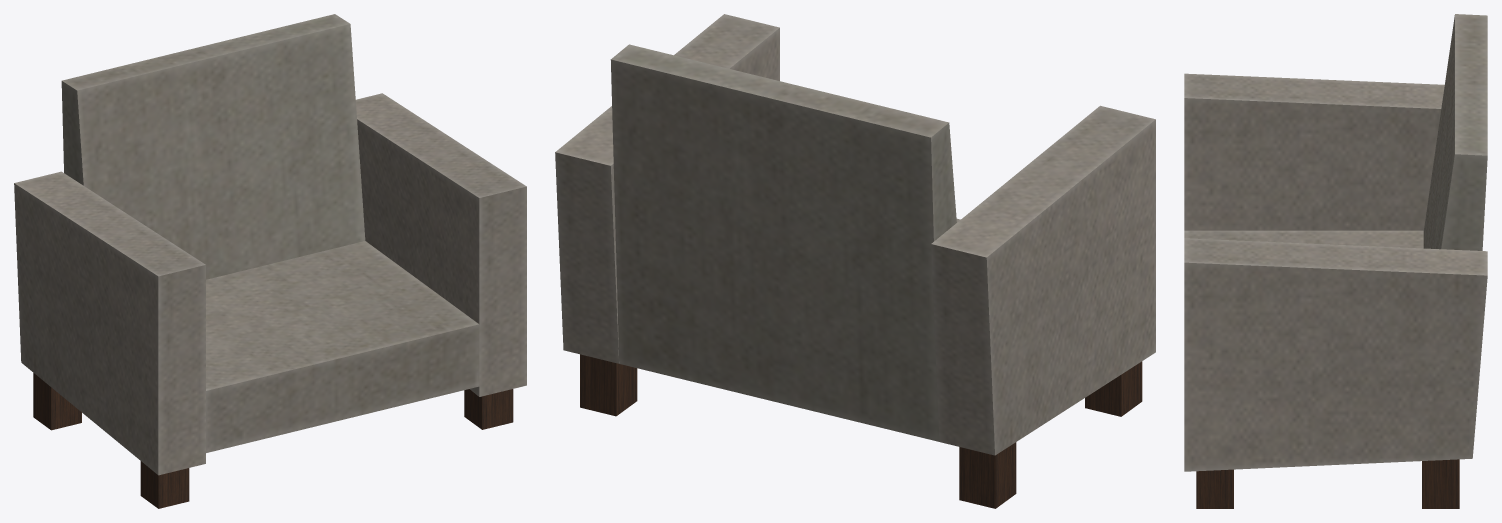
The model's file is Couch_1A.fbx.
3 renders of one model, left to right at view 1: azimuth 30°, elevation 25°; view 2: azimuth 150°, elevation 25°; view 3: azimuth 270°, elevation 25°, orthographic. The views are drawn at different scales.
Visible parts, largest first — view 1: polySurface1528; view 2: polySurface1528; view 3: polySurface1528.
Part boxes in pixels (x1,y1,x2,y2): polySurface1528: (14,14,526,508); polySurface1528: (555,14,1155,508); polySurface1528: (1184,14,1487,508).
Size of the model in its own units: 1.55 by 1.28 by 1.05.
